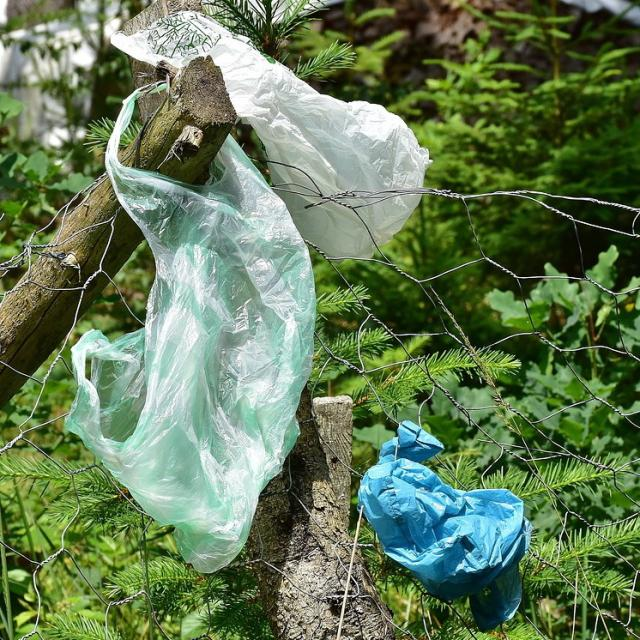Single-layer Plastic: (66, 92, 314, 572), (111, 12, 430, 258), (359, 421, 531, 631)
